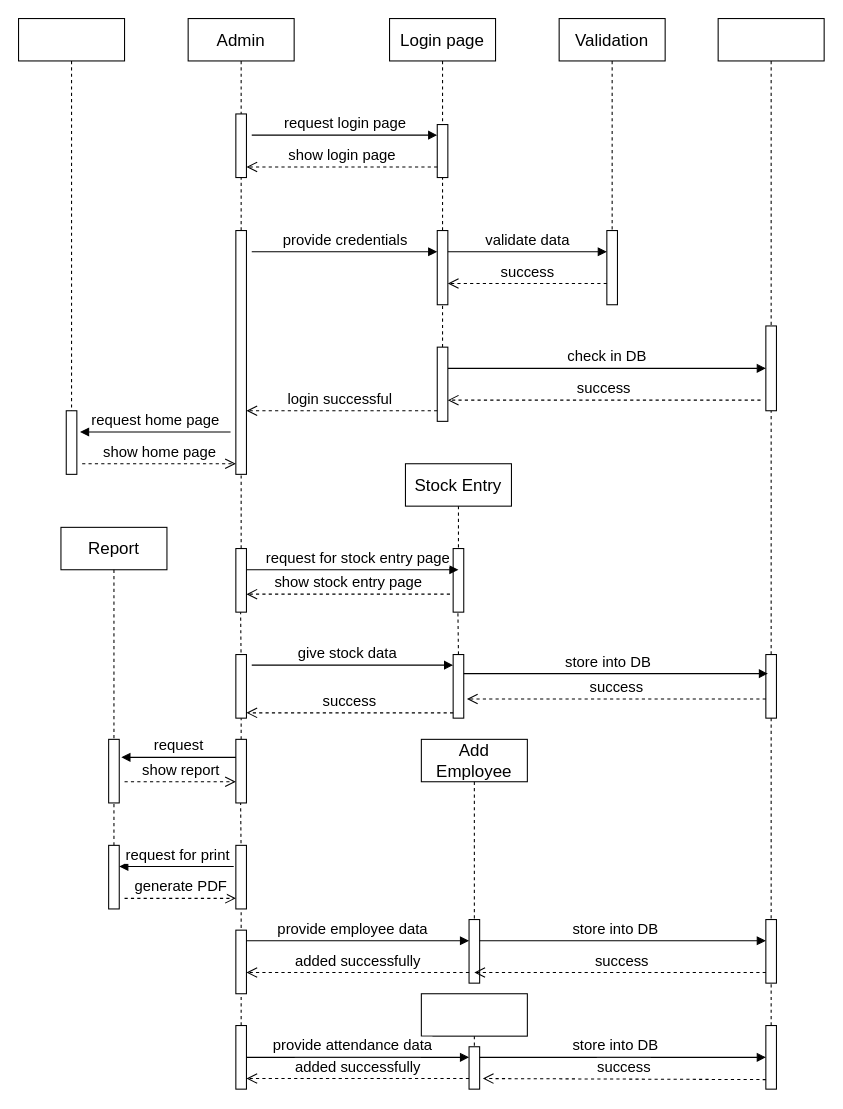
This 843x1109 diagram has some shape labels left out. The box of each missing label's shape, as (x1, y1, x2, y2) in pixels:
Attendance: (420, 993, 527, 1057)
Database: (717, 17, 824, 326)
Home page: (17, 17, 125, 421)
